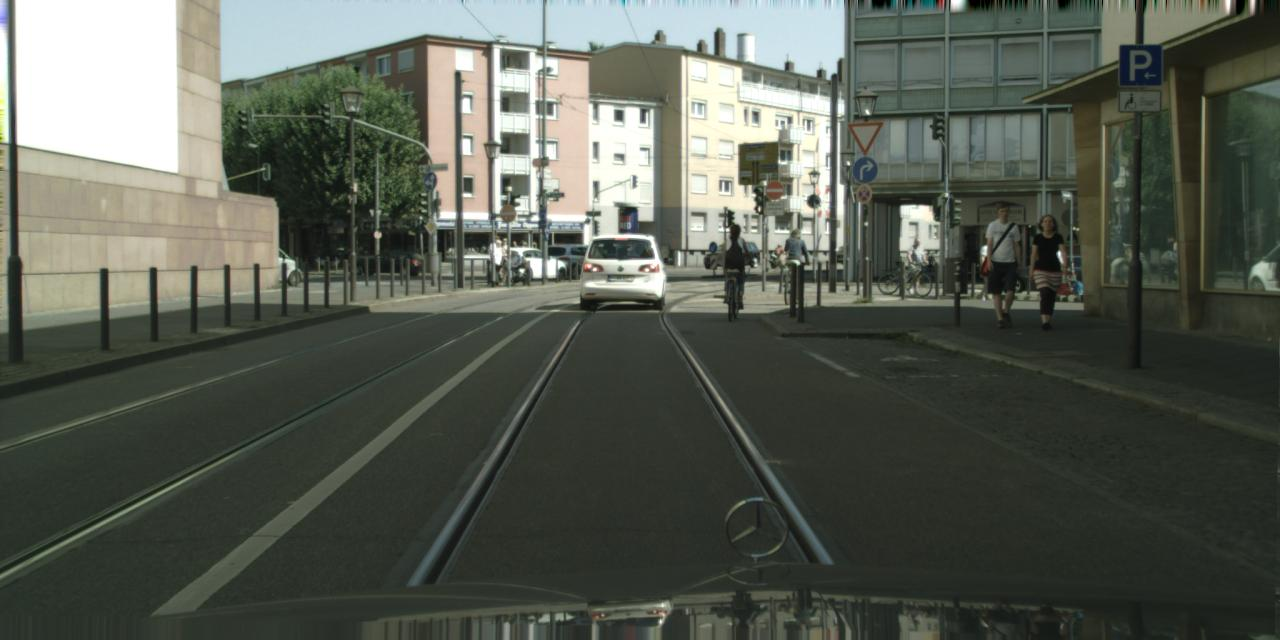ped: (978, 201, 1030, 328), (1023, 213, 1071, 330), (717, 223, 750, 306), (974, 233, 1001, 300), (782, 227, 808, 288), (903, 237, 927, 296), (488, 238, 507, 285), (493, 237, 512, 283), (486, 235, 504, 280), (508, 240, 520, 270), (774, 244, 782, 263)
